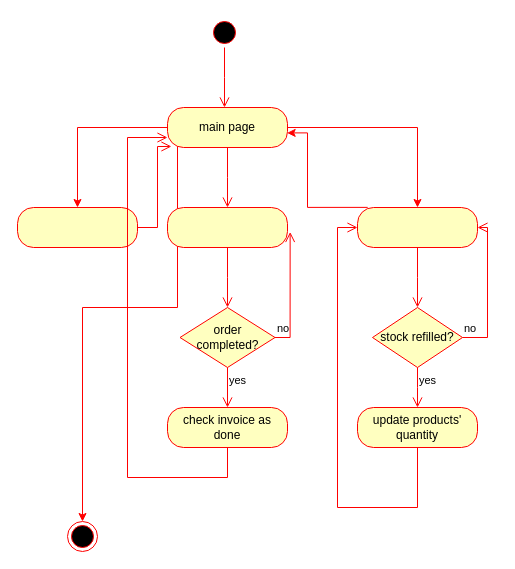
The diagram is 515 pixels wide and 569 high, and some of its shapes have lost their labels. The centre of each missing label's shape, as x and y in pixels:
check product quantity: pixel 417 227
see invoices: pixel 227 227
see users: pixel 77 227
